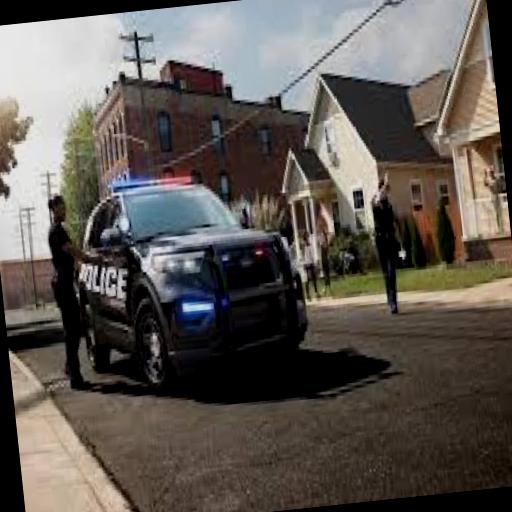Ambulance: (64, 156, 313, 403)
